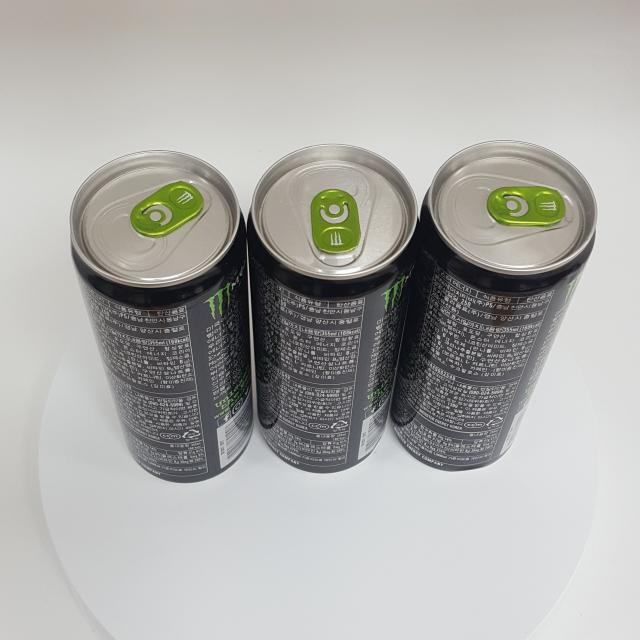--------355ML: (388, 140, 598, 472), (68, 150, 254, 483), (248, 142, 420, 474)
